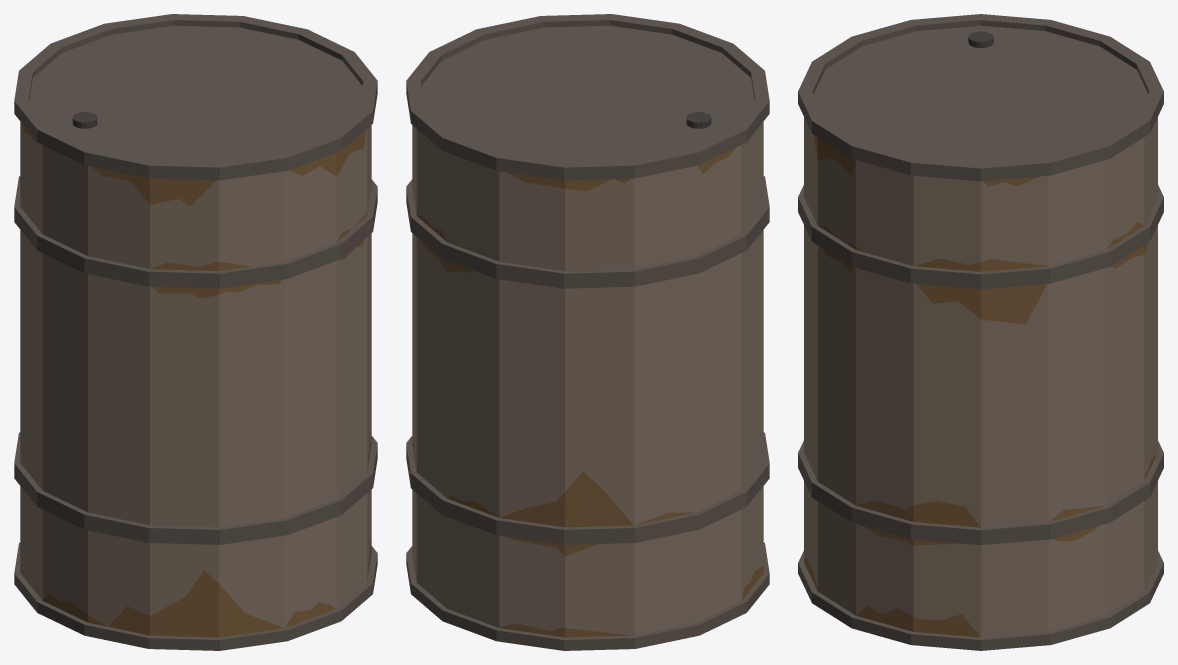
File: Barrel_01.glb
3 renders of one model, left to right at view 1: azimuth 30°, elevation 25°; view 2: azimuth 150°, elevation 25°; view 3: azimuth 270°, elevation 25°, orthographic.
Parts seen in each view (by area): view 1: Barrel_01; view 2: Barrel_01; view 3: Barrel_01.
Part boxes in pixels (box(x1,y1,x2,y2)): Barrel_01: box(14, 14, 377, 650); Barrel_01: box(406, 14, 769, 650); Barrel_01: box(798, 14, 1163, 650).
Bounding box in the file's own units: 0.6096 × 0.8875 × 0.6096.
Materials: 1 (1 with a texture image).
